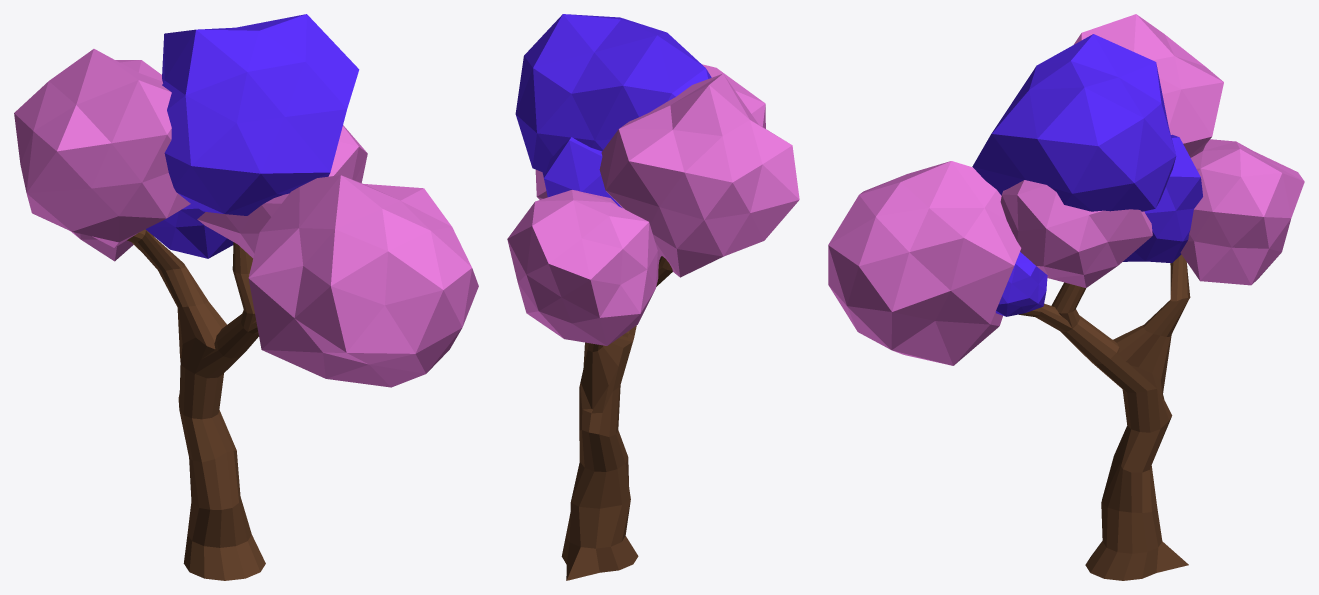
File: Tree3.fbx
3 renders of one model, left to right at view 1: azimuth 30°, elevation 25°; view 2: azimuth 150°, elevation 25°; view 3: azimuth 270°, elevation 25°, orthographic. The views are drawn at different scales.
Parts seen in each view (by area): view 1: Icosphere.010; view 2: Icosphere.010; view 3: Icosphere.010.
Boxes of the visible parts, x1,y1,x2,y2 form: Icosphere.010: (14, 14, 478, 580); Icosphere.010: (507, 14, 799, 580); Icosphere.010: (828, 14, 1304, 580).
Size of the model in its own units: 300 by 478 by 404.
